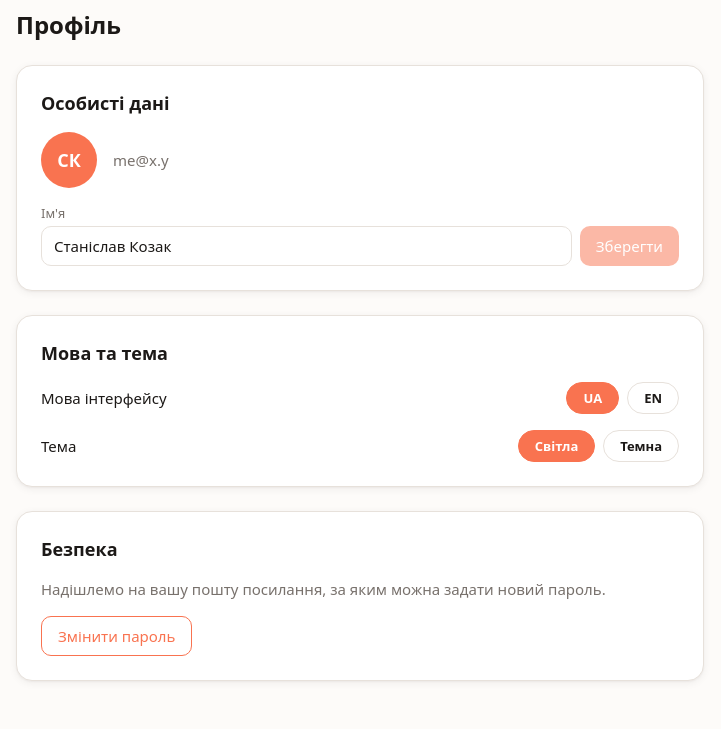
it: ProfilePage › renames the user, and the initials follow
Expected: the button "Зберегти" is disabled, 580,226 -> 679,266
Replace the text in the field labelled "Ім'я" with "  Олена Пчілка " at {"x": 306, "y": 246}, box 41,226 -> 572,266
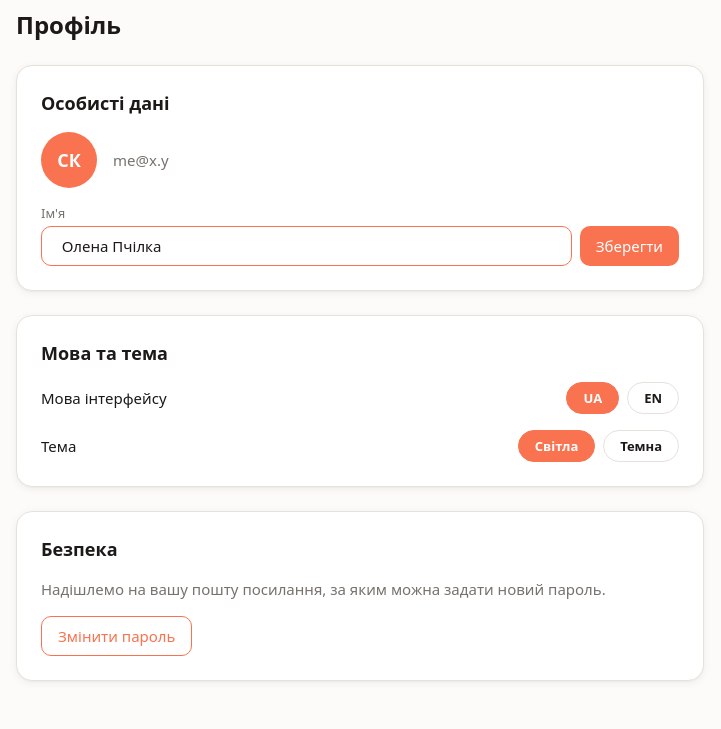
Click the button "Зберегти".
click(629, 246)  # box 580,226 -> 679,266
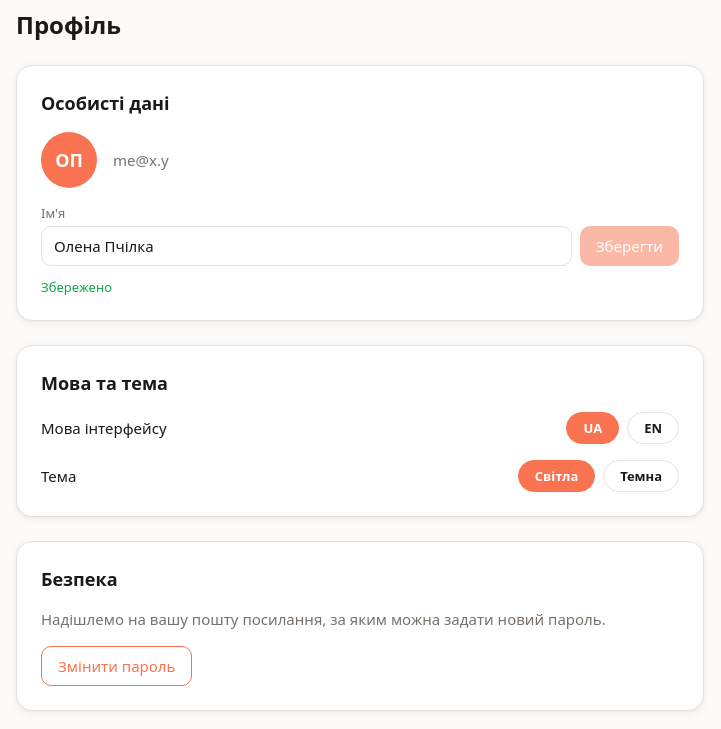
Expected: the text "ОП" is shown, 41,132 -> 97,188
